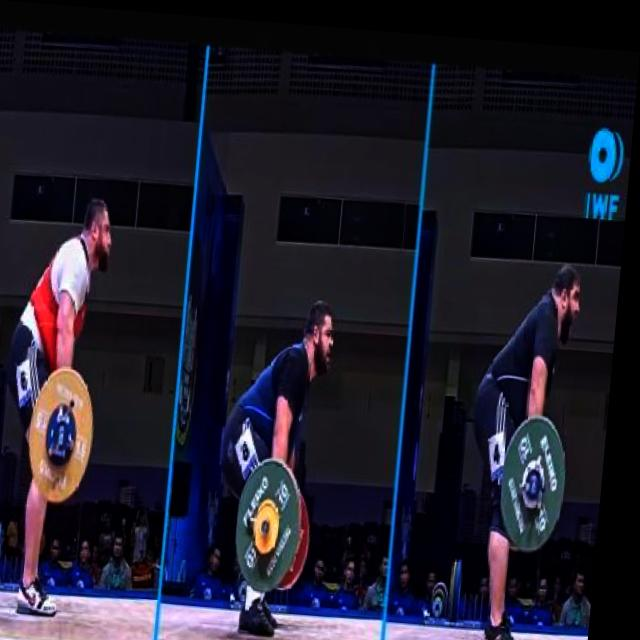barbell: (496, 400, 584, 550), (29, 356, 110, 508), (237, 448, 319, 593)
